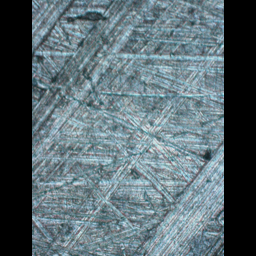d: (31, 0, 160, 164)
